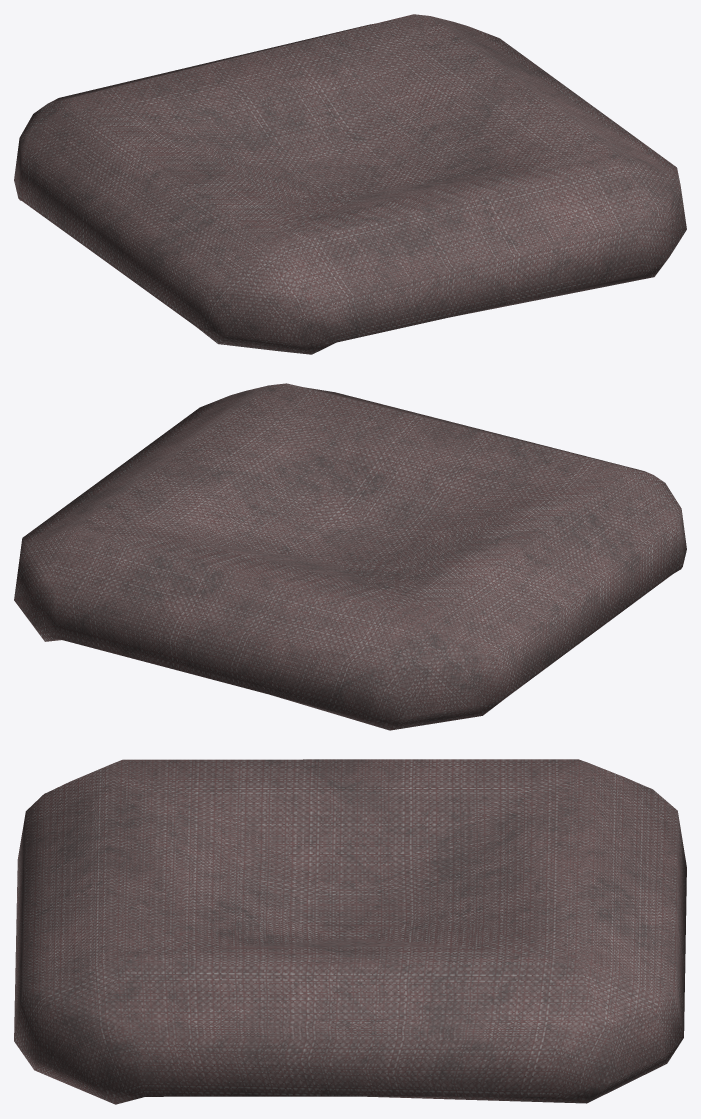
Rendered from 座布団.fbx.
3 renders of one model, top to bottom at view 1: azimuth 30°, elevation 25°; view 2: azimuth 150°, elevation 25°; view 3: azimuth 270°, elevation 25°, orthographic. The views are drawn at different scales.
Parts seen in each view (by area): view 1: Cube; view 2: Cube; view 3: Cube.
Part boxes in pixels (x1=…): Cube: x1=14, y1=14, x2=686, y2=354; Cube: x1=14, y1=383, x2=686, y2=730; Cube: x1=14, y1=759, x2=686, y2=1104.
Size of the model in its own units: 49.83 by 10.57 by 50.01.
1 material, 1 textured.
